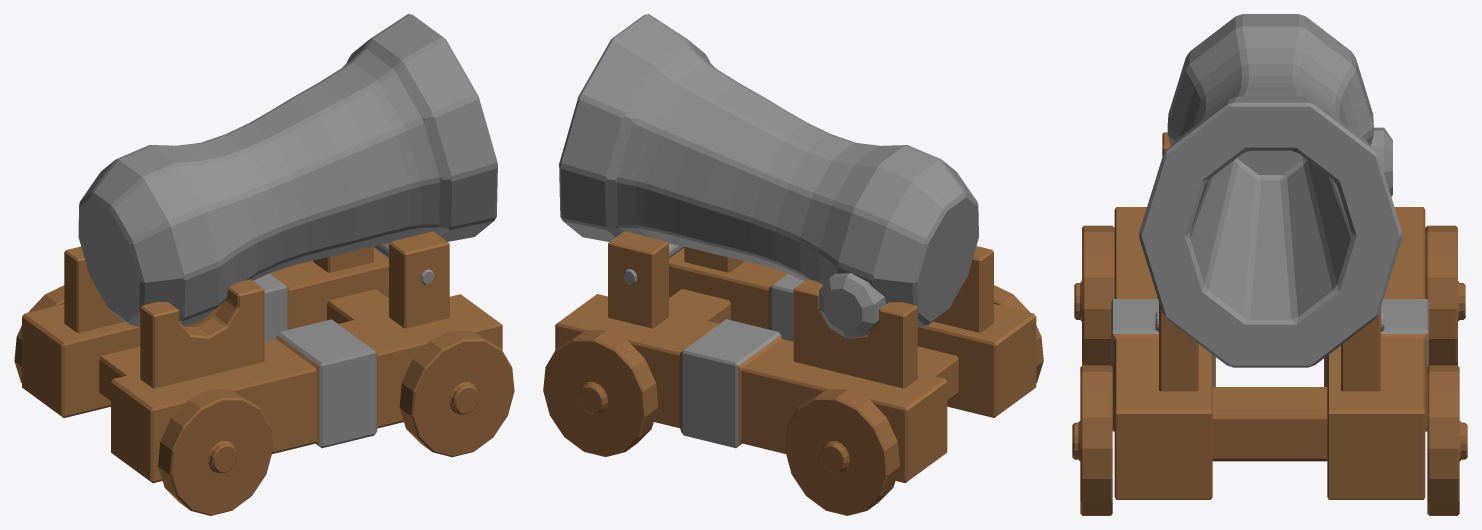
The model's file is canon.fbx.
The picture shows the model from 3 angles, left to right: view 1: azimuth 30°, elevation 25°; view 2: azimuth 150°, elevation 25°; view 3: azimuth 270°, elevation 25°; orthographic projection. The views are drawn at different scales.
Parts seen in each view (by area): view 1: cannon; view 2: cannon; view 3: cannon.
Boxes of the visible parts, x1=… form: cannon: x1=14, y1=14, x2=514, y2=515; cannon: x1=543, y1=14, x2=1043, y2=515; cannon: x1=1072, y1=14, x2=1467, y2=515.
Bounding box in the file's own units: 357 × 331 × 274.
